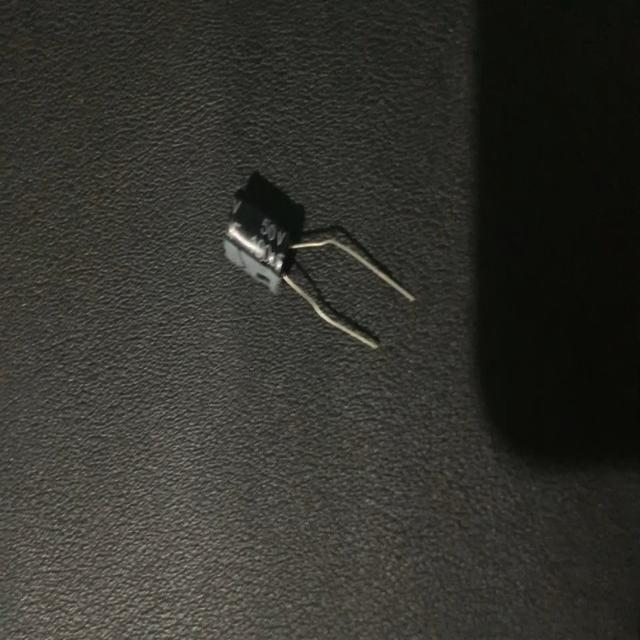capacitor: (218, 178, 419, 357)
